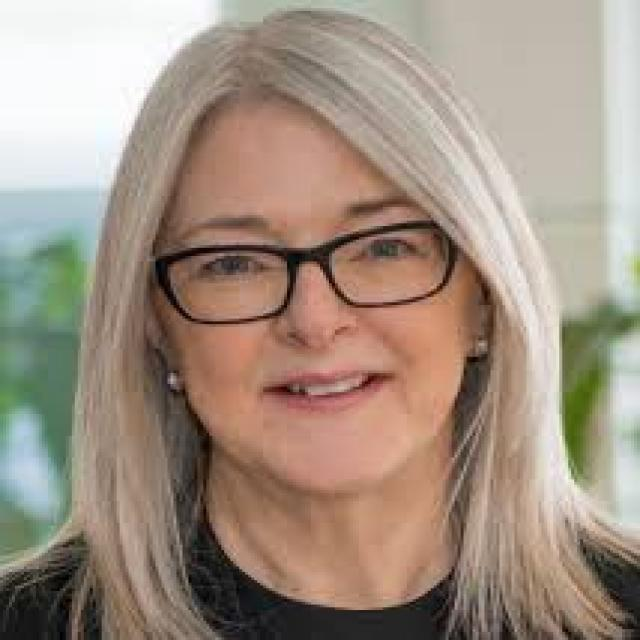Glasses: (135, 204, 476, 340)
